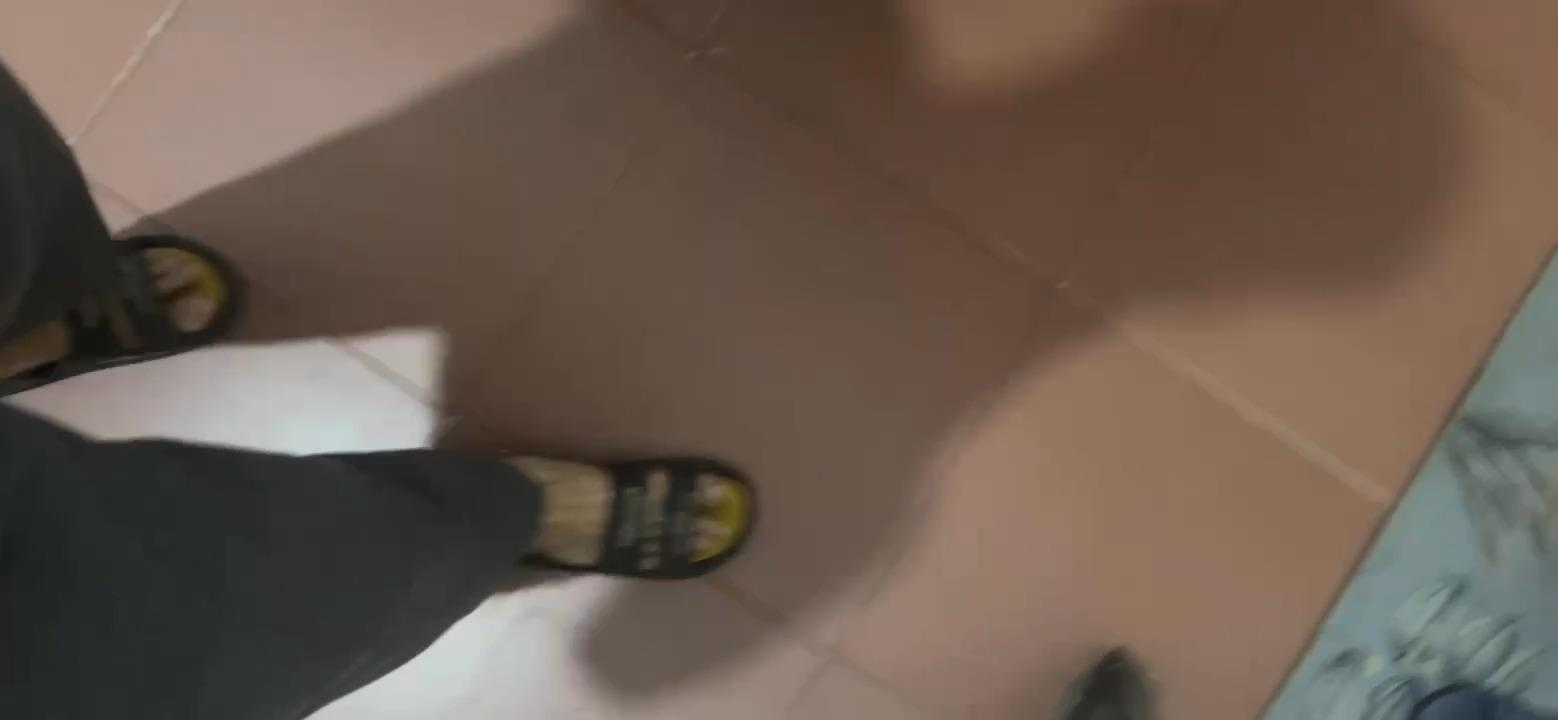no-boot: (475, 431, 753, 593), (19, 233, 253, 368)
